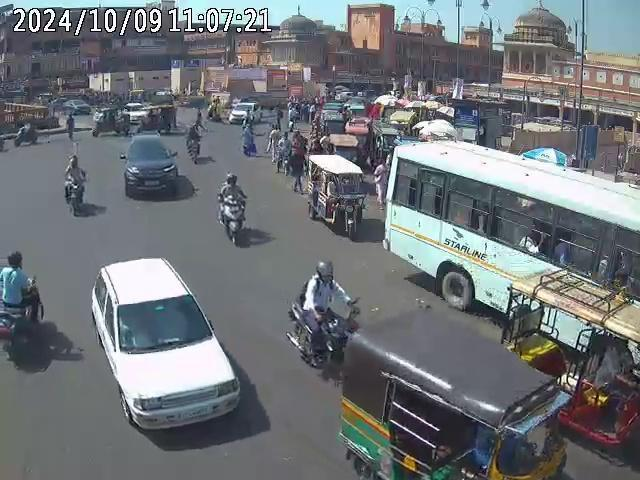auto: (336, 306, 570, 480), (500, 268, 640, 450), (306, 152, 367, 239), (91, 103, 119, 137), (322, 108, 349, 139)
bus: (380, 139, 639, 316)
car: (89, 255, 243, 435), (121, 135, 181, 199), (227, 101, 260, 125)
helmet: (316, 259, 335, 284), (3, 250, 24, 270), (224, 172, 240, 188)
motorbike-rider: (286, 259, 362, 376), (62, 154, 89, 215), (13, 115, 47, 147), (187, 122, 201, 163)
person: (290, 142, 309, 190), (239, 122, 257, 157), (268, 130, 283, 169)
scooty-rider: (0, 246, 49, 356), (215, 171, 248, 243)
